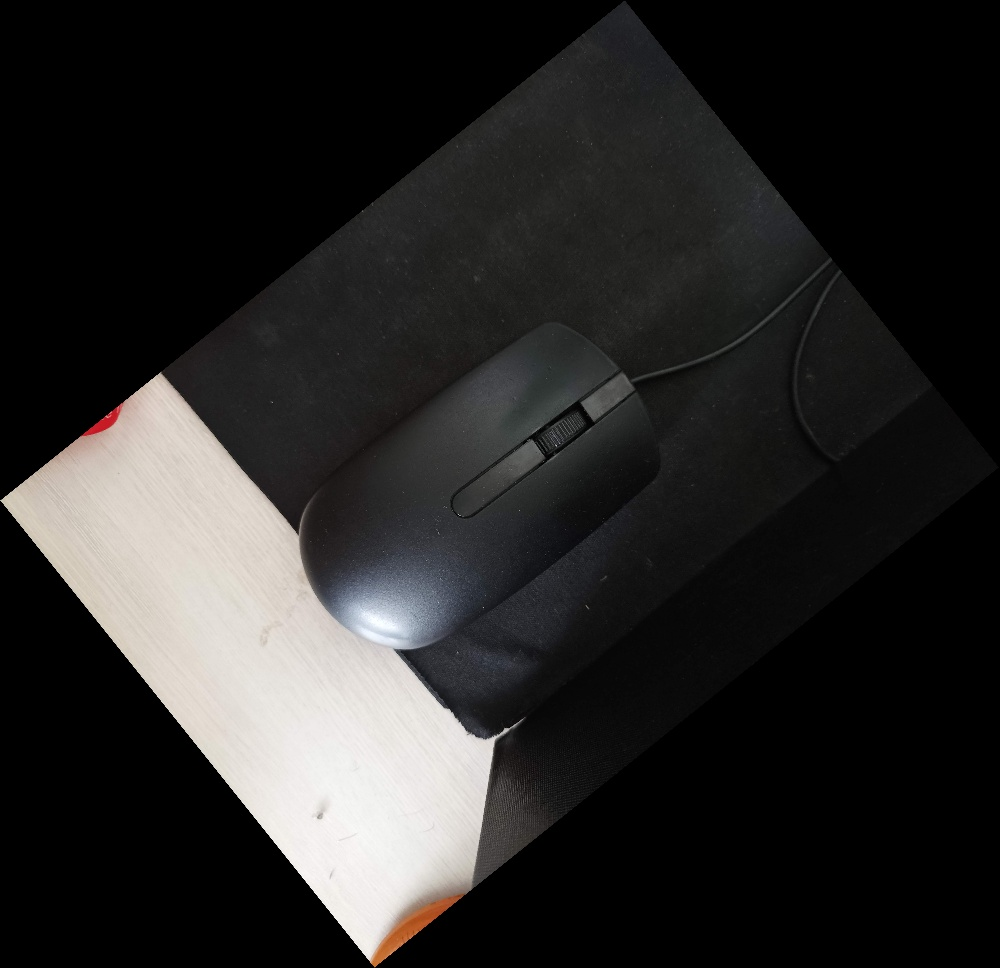mouse: (295, 316, 668, 658)
